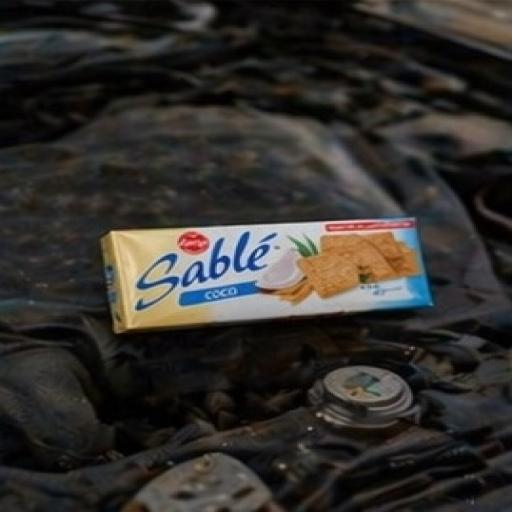sable: (56, 164, 490, 370)
